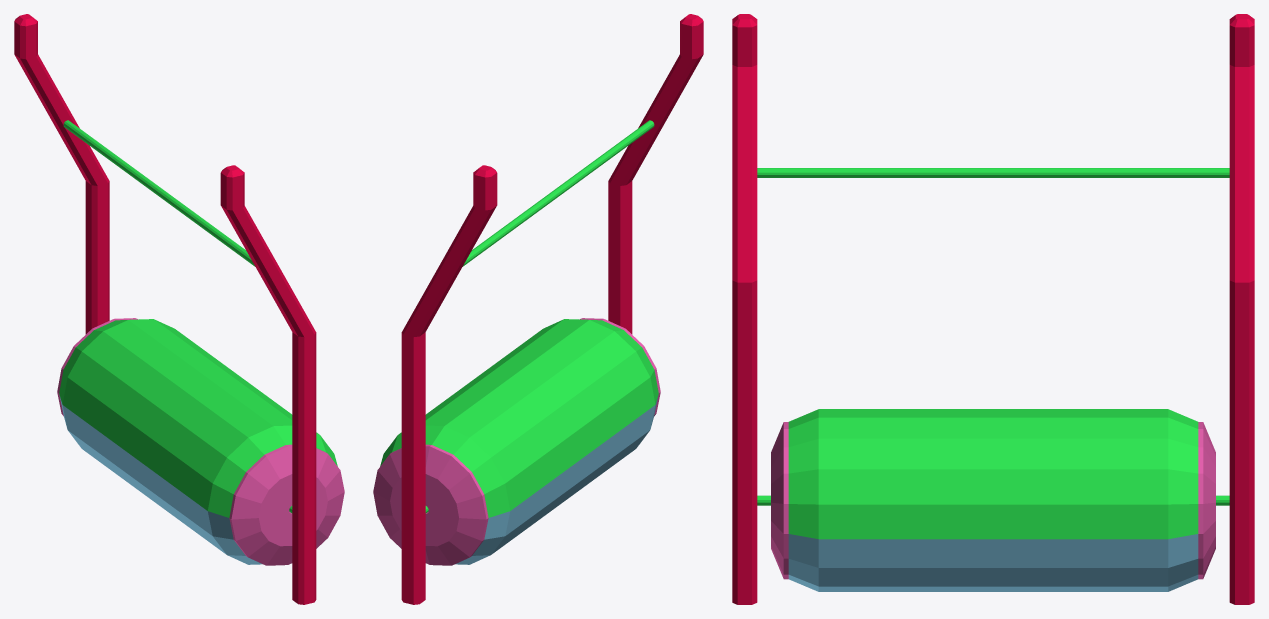
Rendered from Running Wheel.fbx.
3 renders of one model, left to right at view 1: azimuth 30°, elevation 25°; view 2: azimuth 150°, elevation 25°; view 3: azimuth 270°, elevation 25°, orthographic. The views are drawn at different scales.
Visible parts, largest first — view 1: Wheel, Running Wheel; view 2: Wheel, Running Wheel; view 3: Wheel, Running Wheel.
Boxes of the visible parts, bbox=[...] form: Wheel: bbox=[57, 318, 344, 565]; Running Wheel: bbox=[14, 14, 316, 604]; Wheel: bbox=[373, 318, 660, 565]; Running Wheel: bbox=[401, 14, 703, 604]; Wheel: bbox=[771, 409, 1215, 591]; Running Wheel: bbox=[732, 14, 1254, 604].
Size of the model in its own units: 73.62 by 216 by 189.
